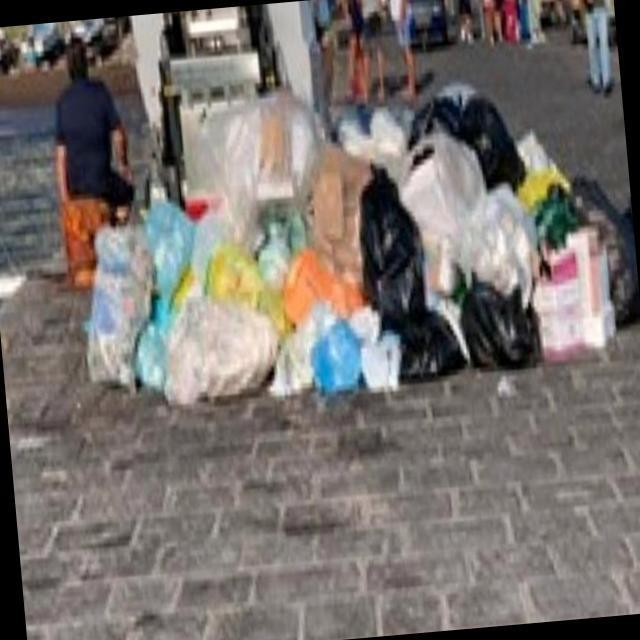garbage: (71, 84, 640, 429)
